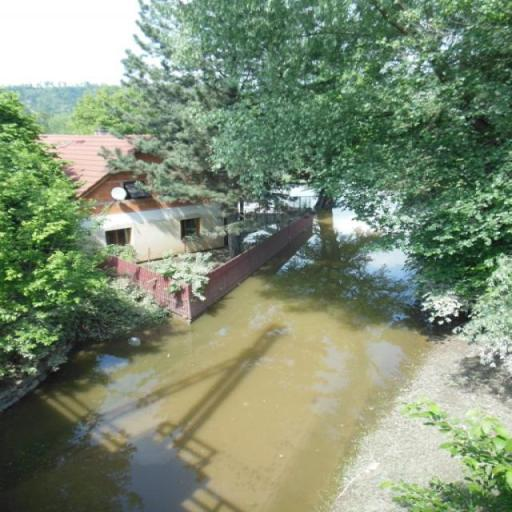flood: (0, 210, 430, 512)
house: (48, 131, 227, 257)
